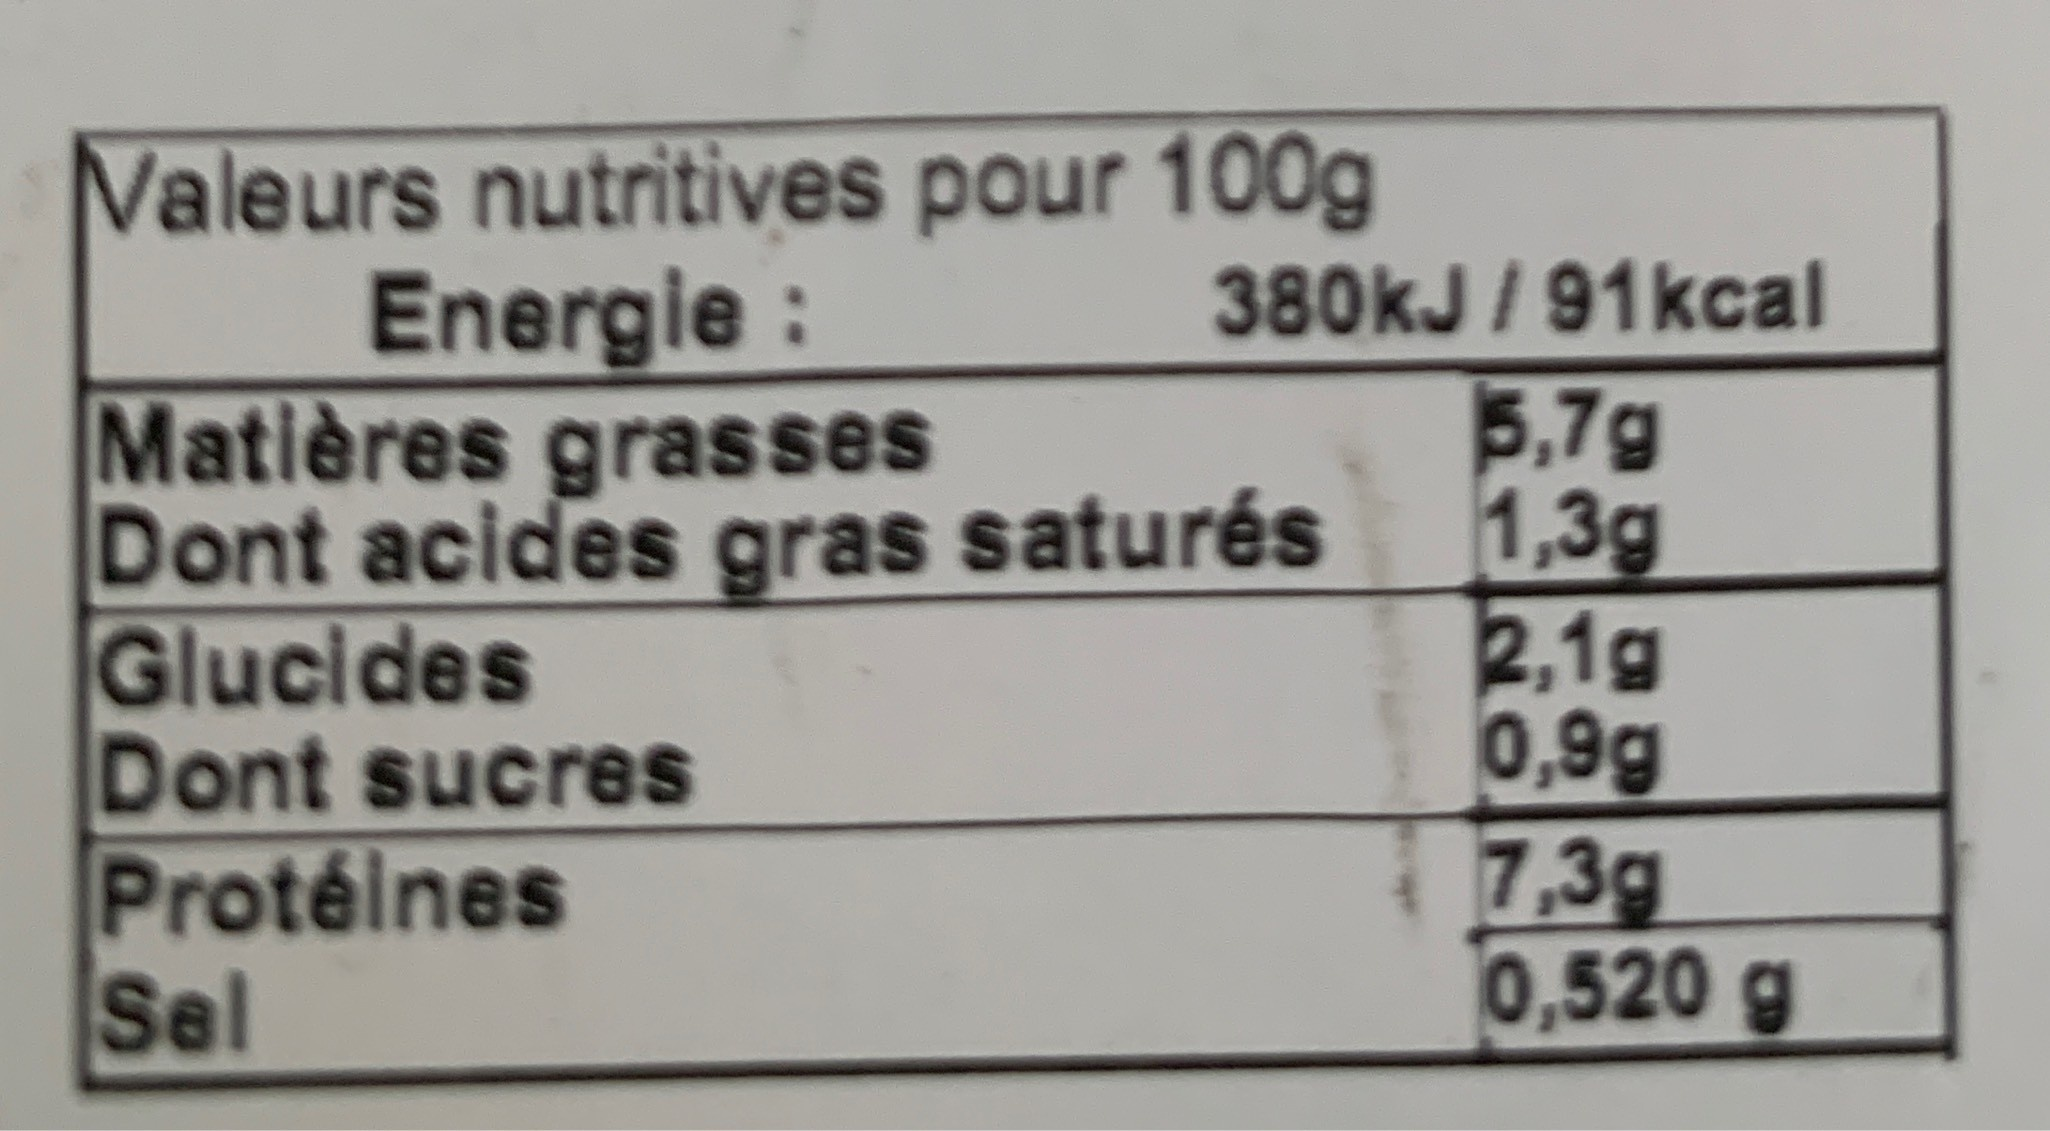column: (97, 375, 1331, 1059), (1473, 380, 1797, 1033)
table: (67, 120, 1955, 1091)
